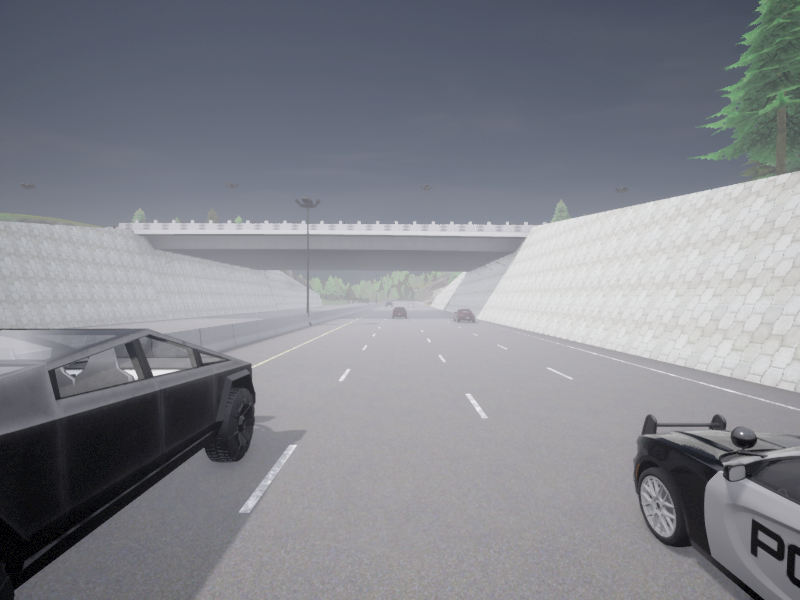vehicle: (0, 328, 255, 599), (633, 414, 799, 599), (453, 309, 475, 322), (392, 307, 406, 318), (385, 301, 392, 306), (407, 303, 414, 307)
